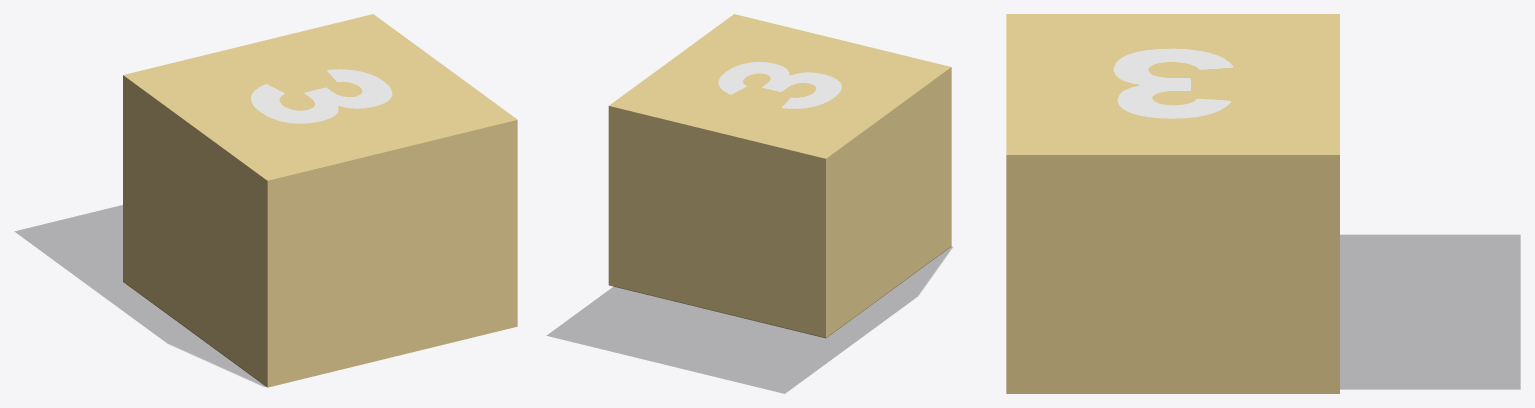
Rendered from numbered_block_2.glb.
The picture shows the model from 3 angles, left to right: view 1: azimuth 30°, elevation 25°; view 2: azimuth 150°, elevation 25°; view 3: azimuth 270°, elevation 25°; orthographic projection. The views are drawn at different scales.
Visible parts, largest first — view 1: hitObj, block, Object3D; view 2: hitObj, block, Object3D; view 3: hitObj, block, Object3D.
Part boxes in pixels (x1=…): hitObj: x1=123, y1=14, x2=517, y2=387; block: x1=15, y1=205, x2=266, y2=386; Object3D: x1=251, y1=69, x2=392, y2=123; hitObj: x1=608, y1=14, x2=951, y2=338; block: x1=547, y1=246, x2=952, y2=393; Object3D: x1=718, y1=62, x2=841, y2=108; hitObj: x1=1006, y1=14, x2=1339, y2=393; block: x1=1340, y1=235, x2=1520, y2=389; Object3D: x1=1113, y1=48, x2=1233, y2=118.
Size of the model in its own units: 7.88 by 5.57 by 10.81.
4 materials, 3 textured.
